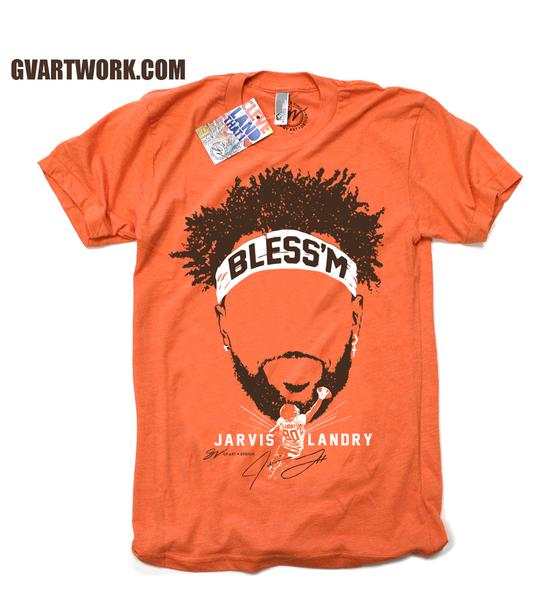T-Shirt: (35, 75, 522, 570)
